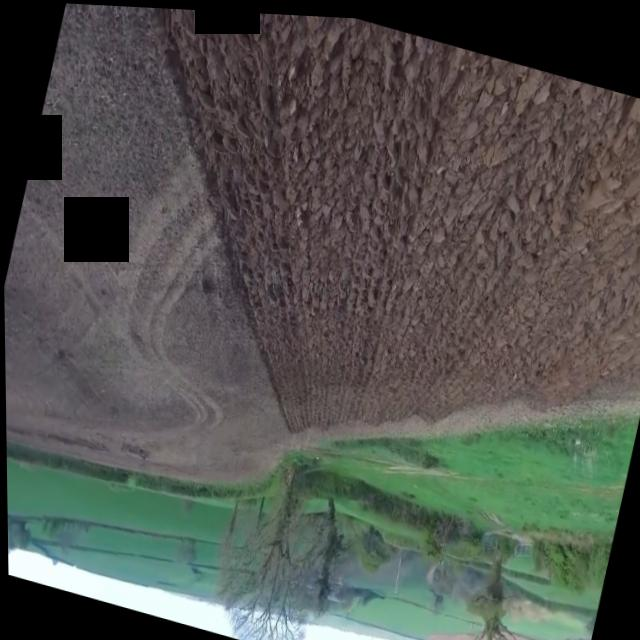Tree: (199, 436, 350, 640), (447, 518, 553, 640)
